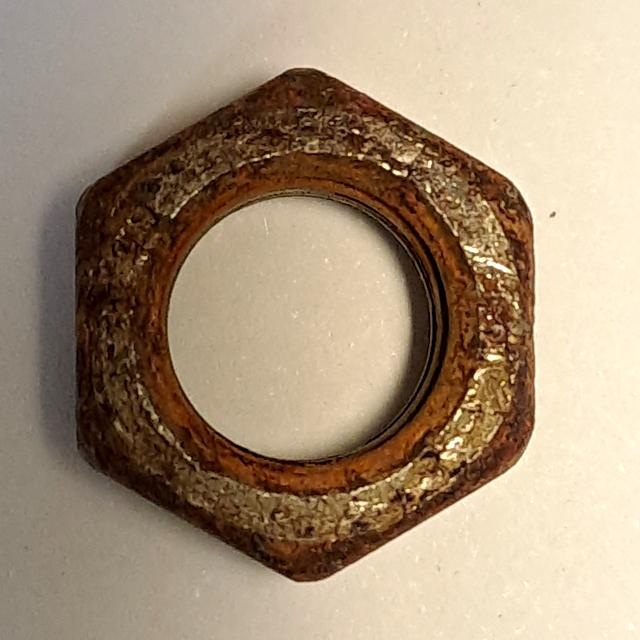Rust: (59, 49, 555, 604)
